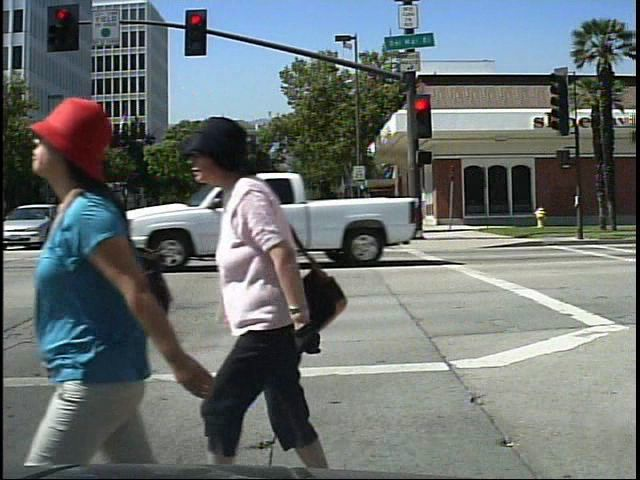person: (192, 110, 375, 473), (47, 76, 190, 469)
